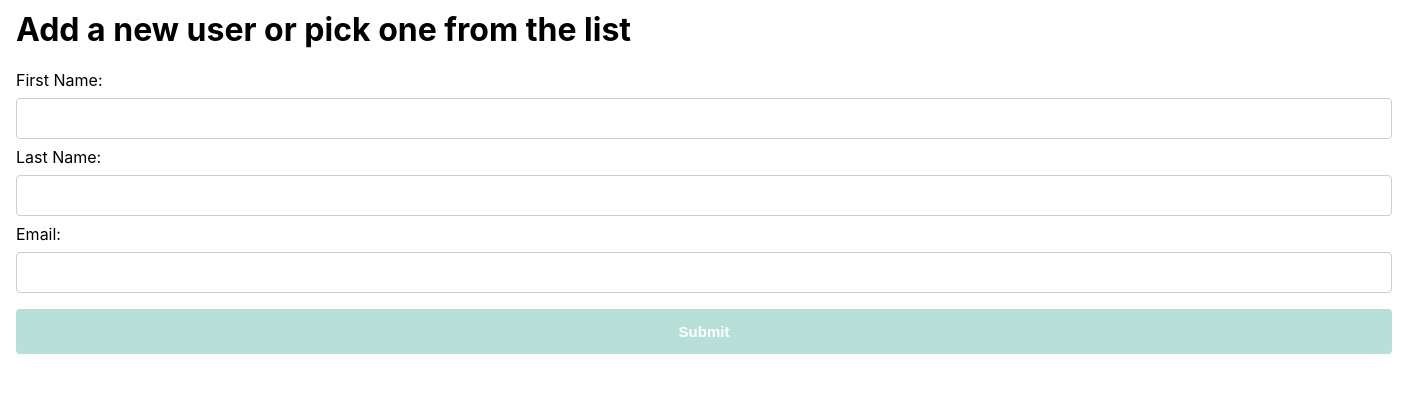
Test: Inputs fields › given invalid data › First name input › should show "Required" when input field left empty after clicking on it
The image size is (1409, 399).
Click the field labelled "First Name:" at (704, 119), box [16,98,1392,139]
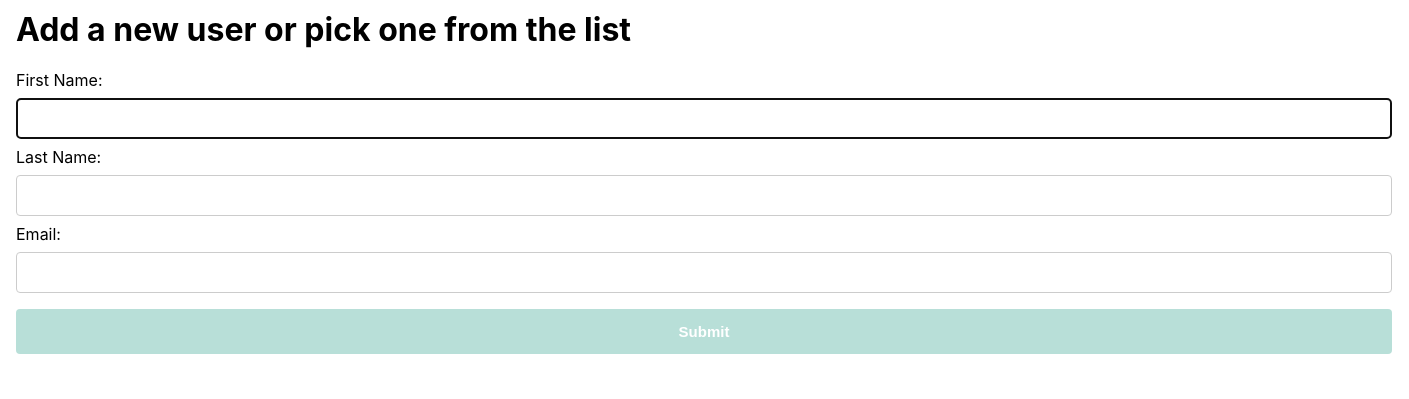
Press Tab
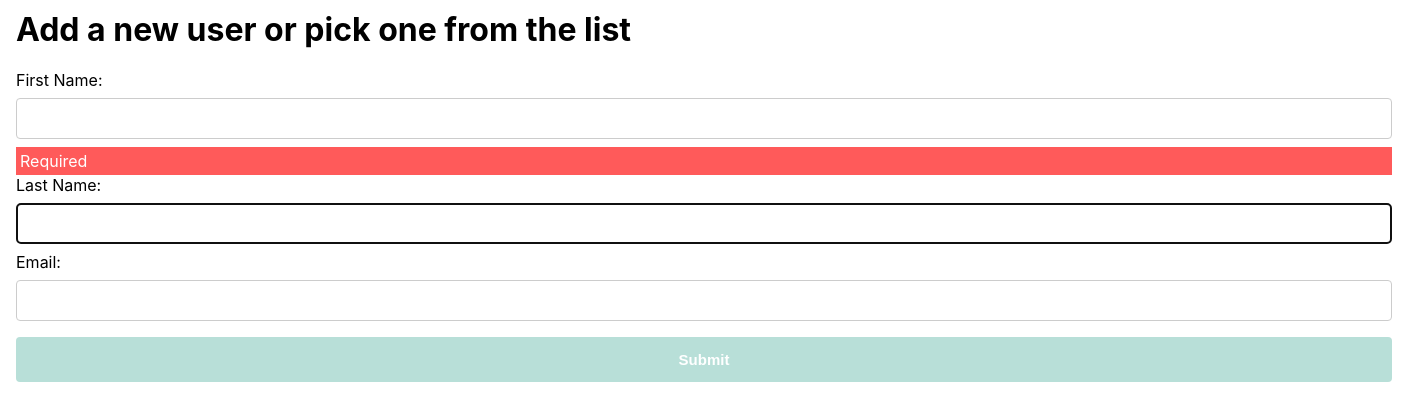
Expected: the text "Required" is shown once, [16,147,1392,175]
